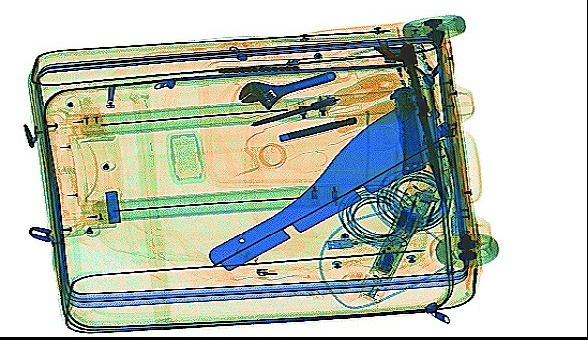knife: (386, 84, 426, 174)
lighter: (385, 55, 416, 116), (410, 38, 441, 90)
